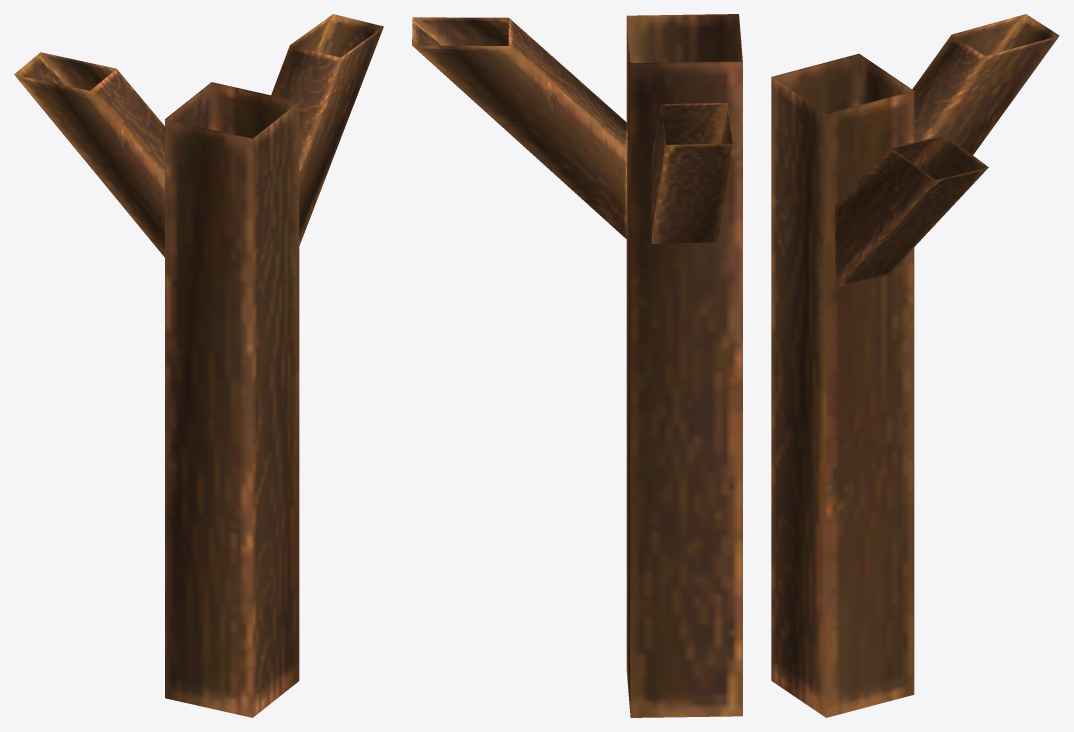
The model's file is SWORDLIGHT20_JAILPLATSUPPORT44.fbx.
3 renders of one model, left to right at view 1: azimuth 30°, elevation 25°; view 2: azimuth 150°, elevation 25°; view 3: azimuth 270°, elevation 25°, orthographic. The views are drawn at different scales.
Parts seen in each view (by area): view 1: SWORDLIGHT20_JAILPLATSUPPORT44; view 2: SWORDLIGHT20_JAILPLATSUPPORT44; view 3: SWORDLIGHT20_JAILPLATSUPPORT44.
Boxes of the visible parts, x1,y1,x2,y2 form: SWORDLIGHT20_JAILPLATSUPPORT44: (14,14,383,717); SWORDLIGHT20_JAILPLATSUPPORT44: (412,14,742,717); SWORDLIGHT20_JAILPLATSUPPORT44: (771,14,1059,717).
Bounding box in the file's own units: 15166 × 25856 × 11123.
1 material, 1 textured.
